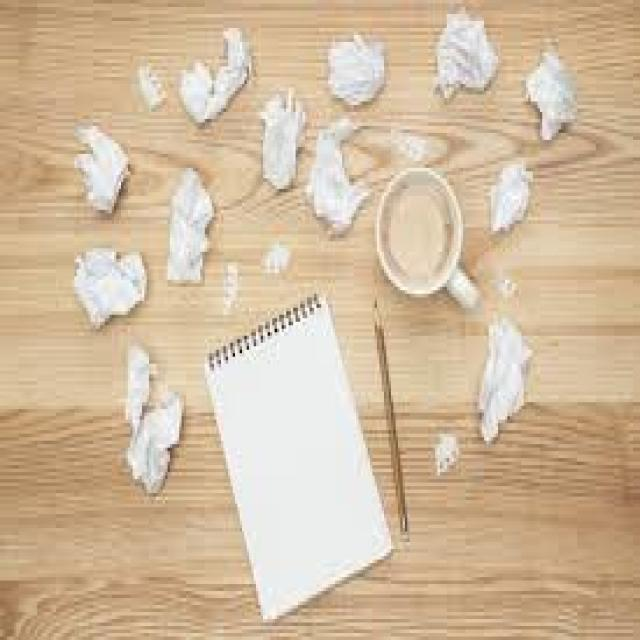crampled paper: (126, 344, 183, 491), (307, 120, 367, 230), (180, 32, 249, 123), (480, 319, 530, 440), (75, 248, 145, 328), (167, 169, 214, 281), (436, 16, 497, 97), (75, 126, 129, 211), (525, 51, 576, 140), (261, 92, 305, 189), (331, 36, 384, 104), (491, 165, 529, 230)
